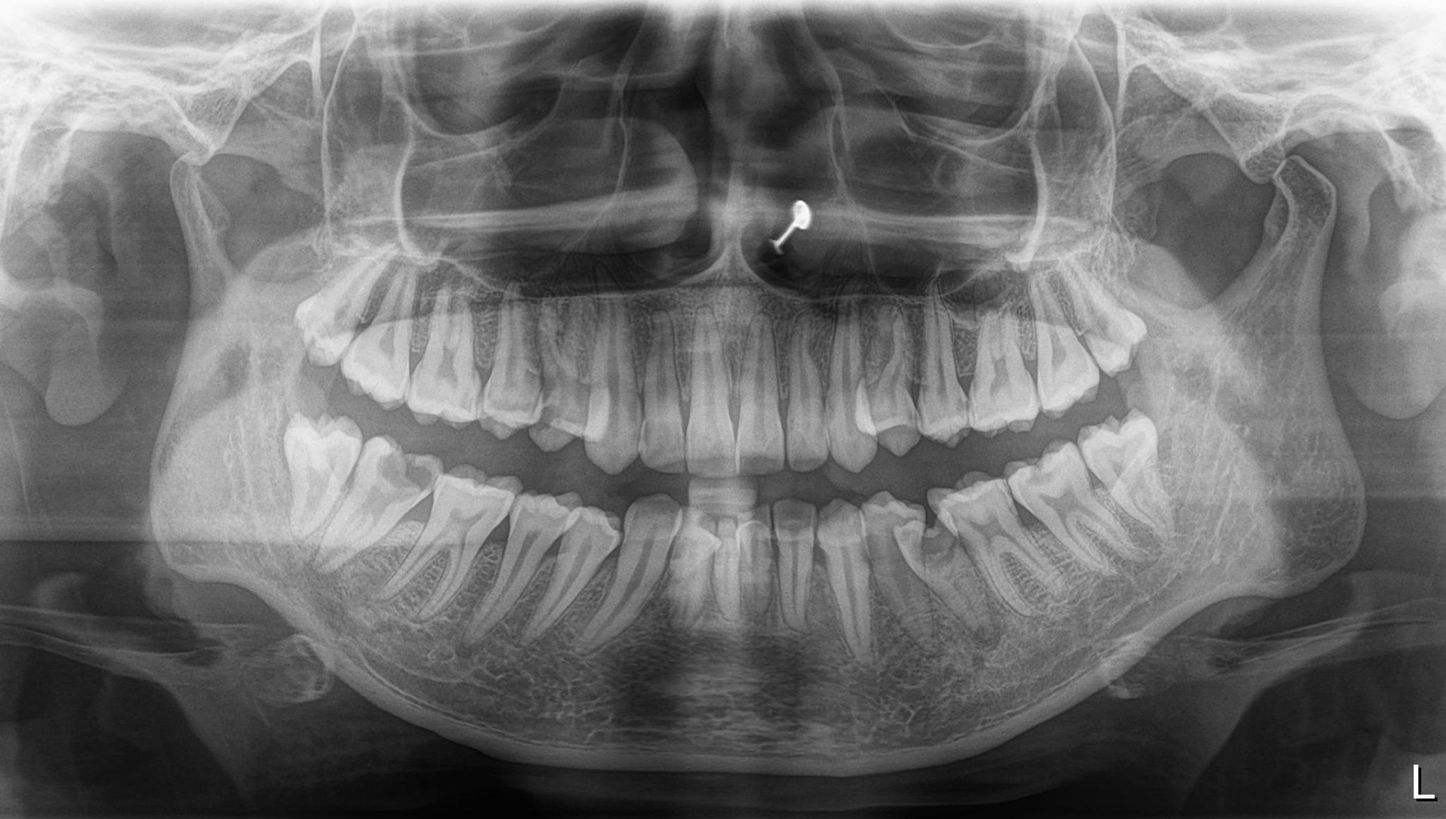Dental Caries: (367, 440, 441, 520), (907, 524, 979, 588), (524, 401, 585, 437)
Impacted Third Molar: (284, 417, 365, 528)
